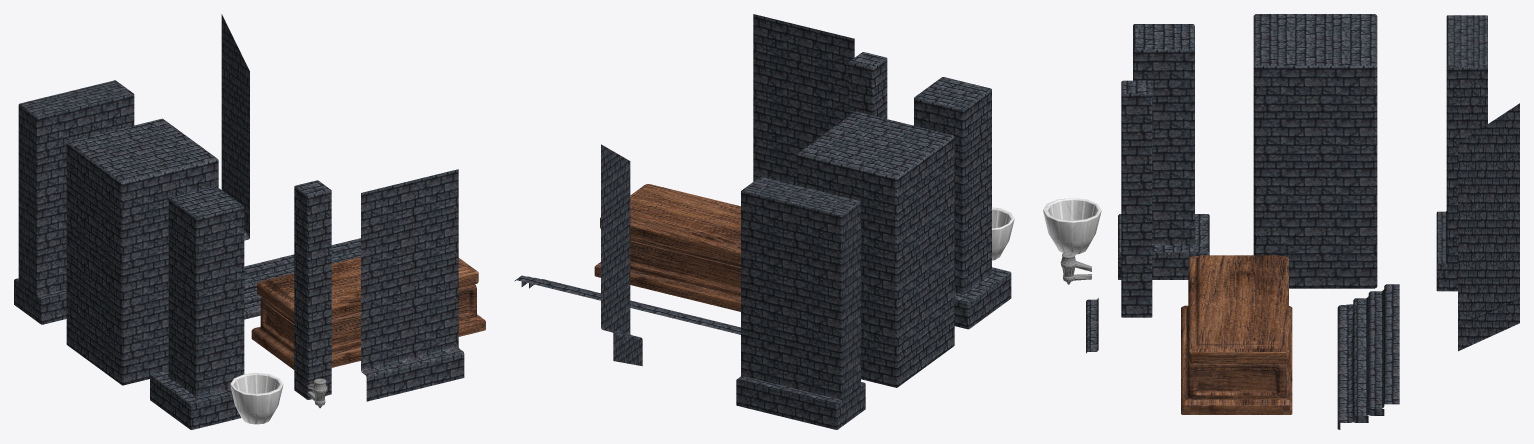
Rendered from Models.FBX.
3 renders of one model, left to right at view 1: azimuth 30°, elevation 25°; view 2: azimuth 150°, elevation 25°; view 3: azimuth 270°, elevation 25°, orthographic. The views are drawn at different scales.
Visible parts, largest first — view 1: big_column, wall, Column_3, Column, corner_full, Wall_2, crypt, crypt_top, jar, stairs; view 2: Column, big_column, wall, Column_3, crypt_top, Wall_2, crypt, corner_full, stairs, jar; view 3: big_column, Wall_2, Column_3, crypt_top, stairs, Column, corner_full, crypt, jar, wall, Torch_2.
Boxes of the visible parts, left/top/right/bottom form: big_column: left=66, top=118, right=218, bottom=385; wall: left=361, top=169, right=464, bottom=401; Column_3: left=150, top=186, right=244, bottom=429; Column: left=14, top=80, right=134, bottom=324; corner_full: left=294, top=180, right=331, bottom=399; Wall_2: left=221, top=14, right=249, bottom=240; crypt: left=251, top=284, right=485, bottom=369; crypt_top: left=257, top=256, right=478, bottom=320; jar: left=230, top=373, right=283, bottom=424; stairs: left=244, top=238, right=360, bottom=319; Column: left=736, top=176, right=865, bottom=429; big_column: left=797, top=111, right=954, bottom=387; wall: left=753, top=14, right=854, bottom=185; Column_3: left=914, top=77, right=1011, bottom=329; crypt_top: left=600, top=184, right=740, bottom=263; Wall_2: left=601, top=144, right=642, bottom=366; crypt: left=594, top=236, right=740, bottom=311; corner_full: left=848, top=52, right=887, bottom=118; stairs: left=514, top=275, right=740, bottom=334; jar: left=992, top=207, right=1014, bottom=260; big_column: left=1253, top=14, right=1377, bottom=288; Wall_2: left=1458, top=103, right=1519, bottom=351; Column_3: left=1118, top=24, right=1209, bottom=279; crypt_top: left=1189, top=255, right=1288, bottom=363; stairs: left=1337, top=284, right=1399, bottom=429; Column: left=1436, top=15, right=1487, bottom=291; corner_full: left=1121, top=80, right=1152, bottom=317; crypt: left=1181, top=273, right=1292, bottom=414; jar: left=1043, top=198, right=1101, bottom=254; wall: left=1086, top=298, right=1098, bottom=353; Torch_2: left=1060, top=252, right=1091, bottom=284.
Size of the model in its own units: 145 by 89.37 by 152.
